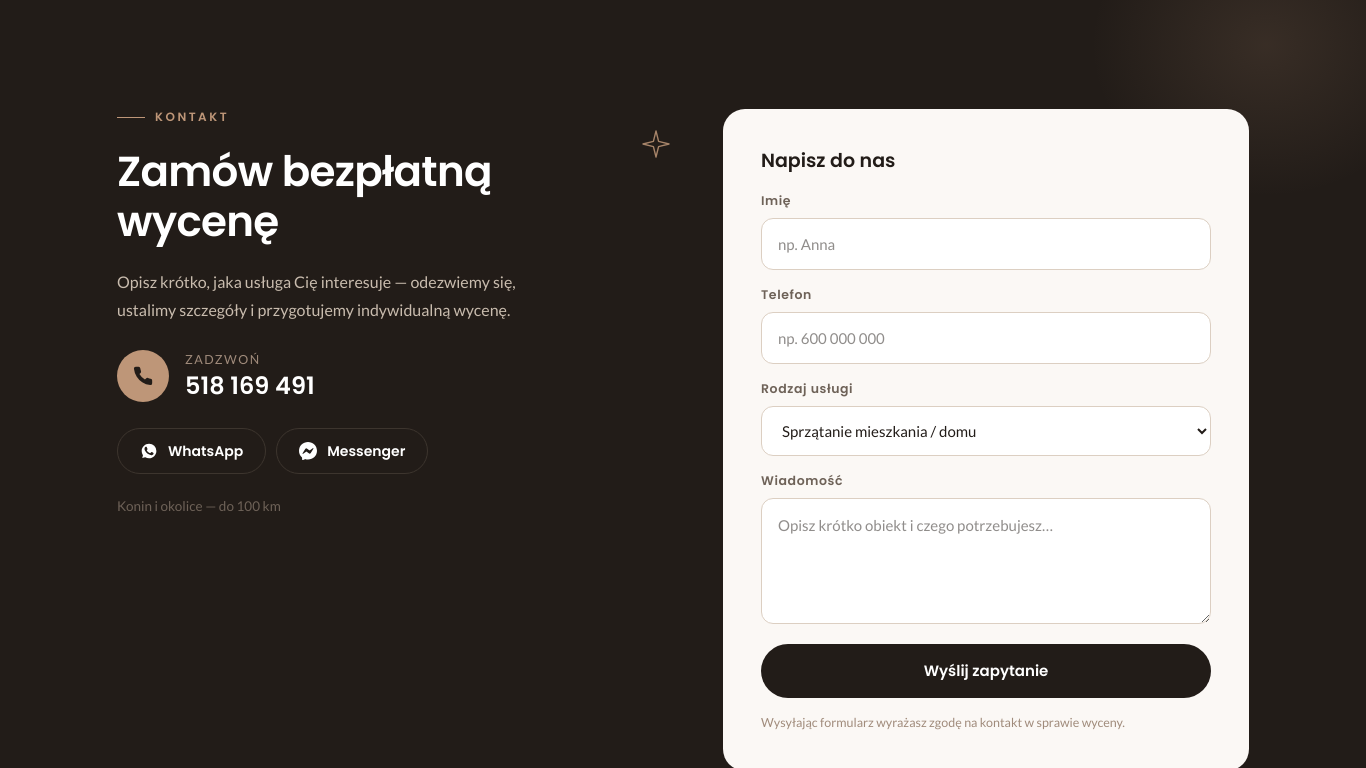
Test: 'Wyślij kolejną' returns to the empty form
The image size is (1366, 768).
Step 1. Click the button "Wyślij zapytanie" → (986, 671), box [761,644,1211,698]
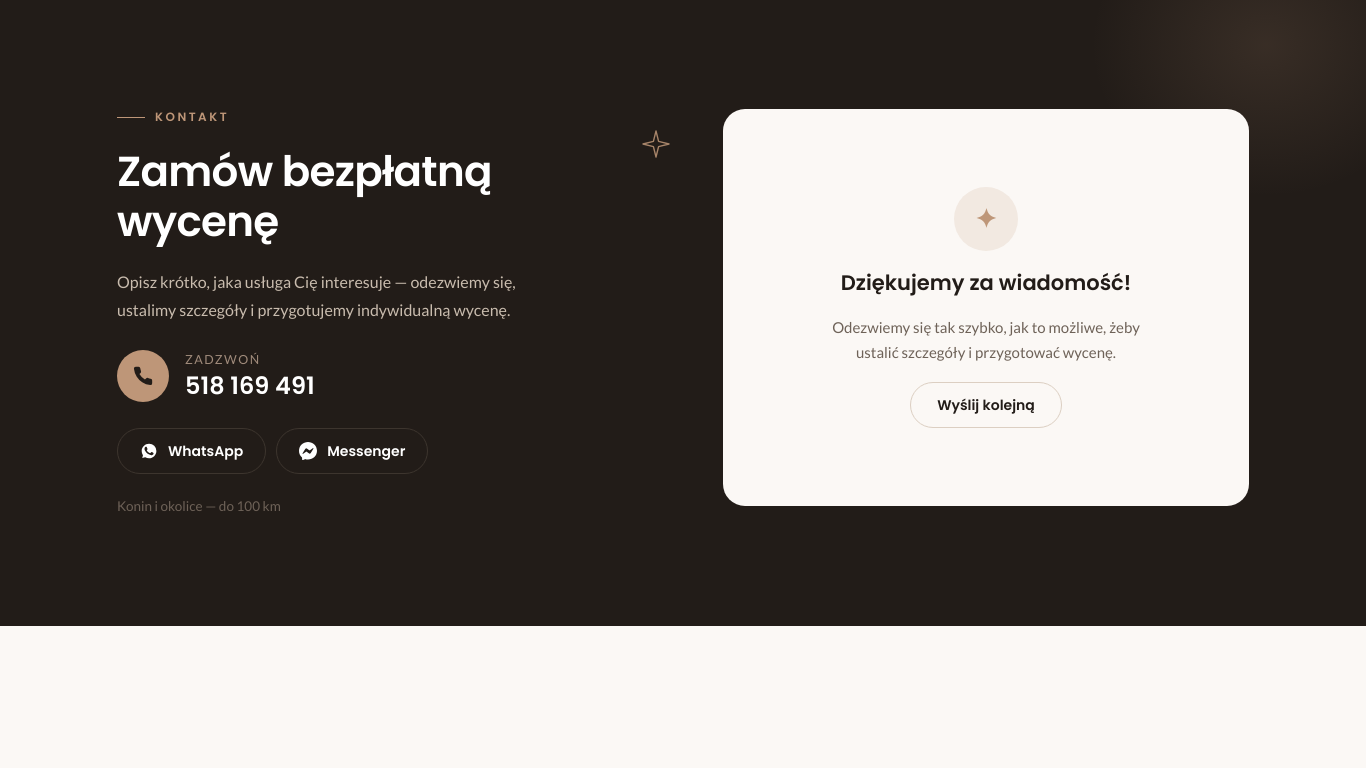
Step 2. Click the button "Wyślij kolejną" → (986, 405), box [910,382,1062,428]
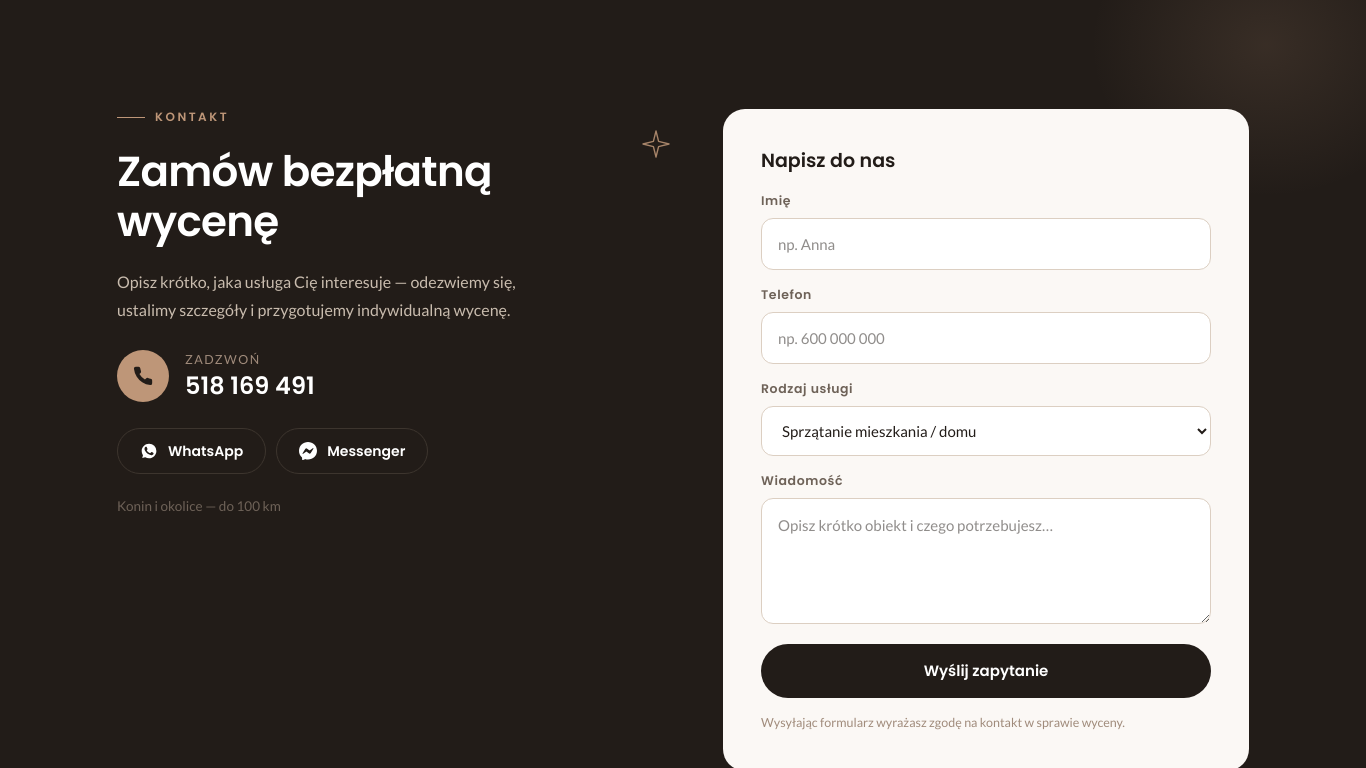
Check: the field labelled "Imię" is shown, box [761,218,1211,270]
